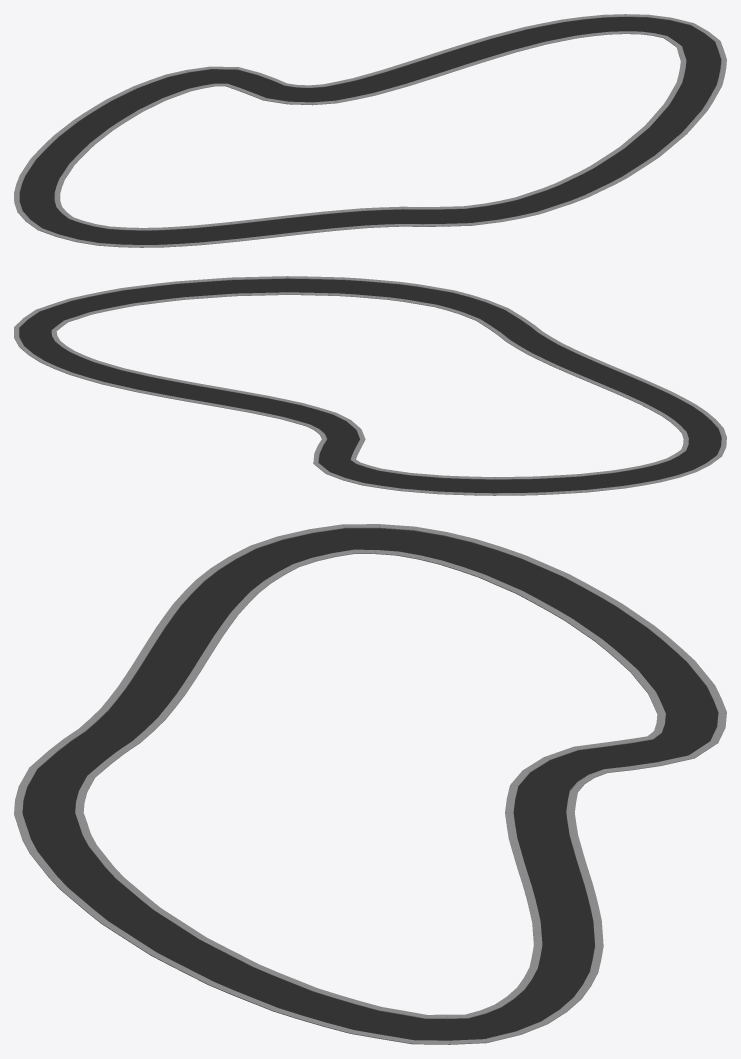
Rendered from pista2.fbx.
The picture shows the model from 3 angles, top to bottom: view 1: azimuth 30°, elevation 25°; view 2: azimuth 150°, elevation 25°; view 3: azimuth 270°, elevation 25°; orthographic projection. The views are drawn at different scales.
Visible parts, largest first — view 1: Plano.001; view 2: Plano.001; view 3: Plano.001.
Boxes of the visible parts, bbox=[...] form: Plano.001: bbox=[14, 14, 726, 247]; Plano.001: bbox=[14, 276, 726, 495]; Plano.001: bbox=[14, 524, 726, 1044].
Bounding box in the file's own units: 1408 × 0.7914 × 816.
Materials: 1 (1 with a texture image).
